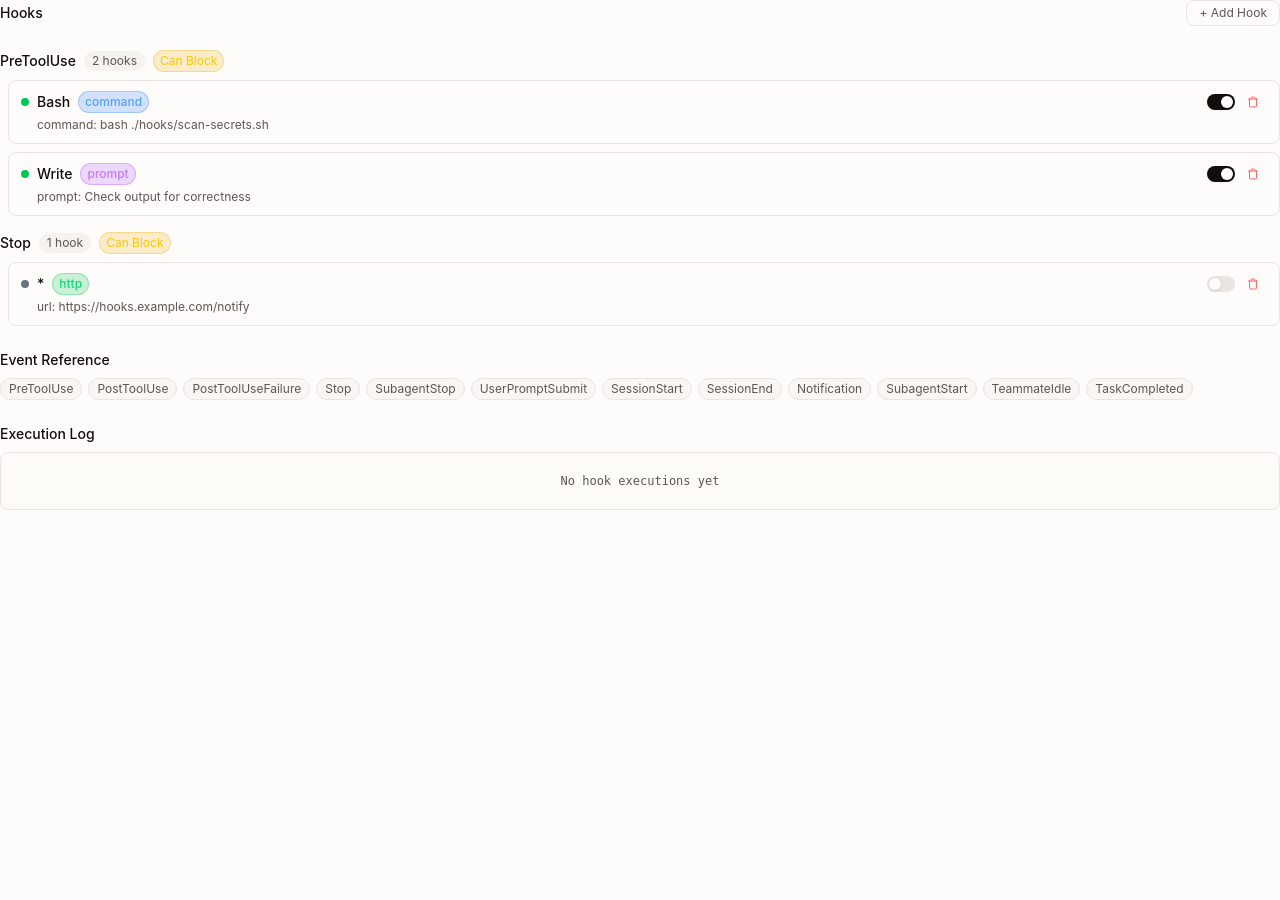
it: HooksPanel › add form shows url fields for http type
Expected: the element with test id "hooks-panel" is shown, [0,0,1279,510]
Click the button with test id "hooks-add-btn" at (1233, 13), box [1186,0,1279,26]
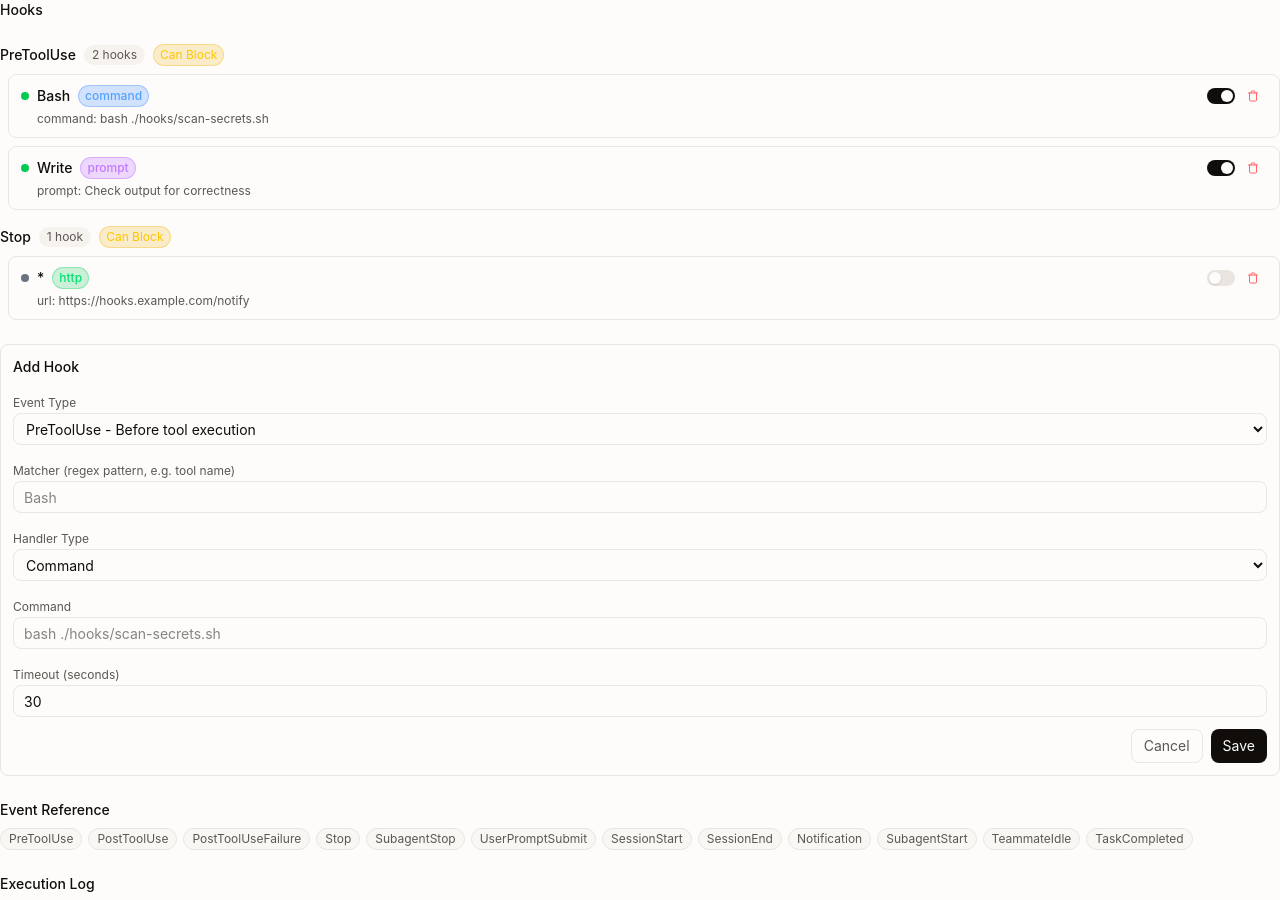
Select "HTTP" in the dropdown with test id "hooks-add-handler-type-select" at (640, 565), box [13,549,1267,581]
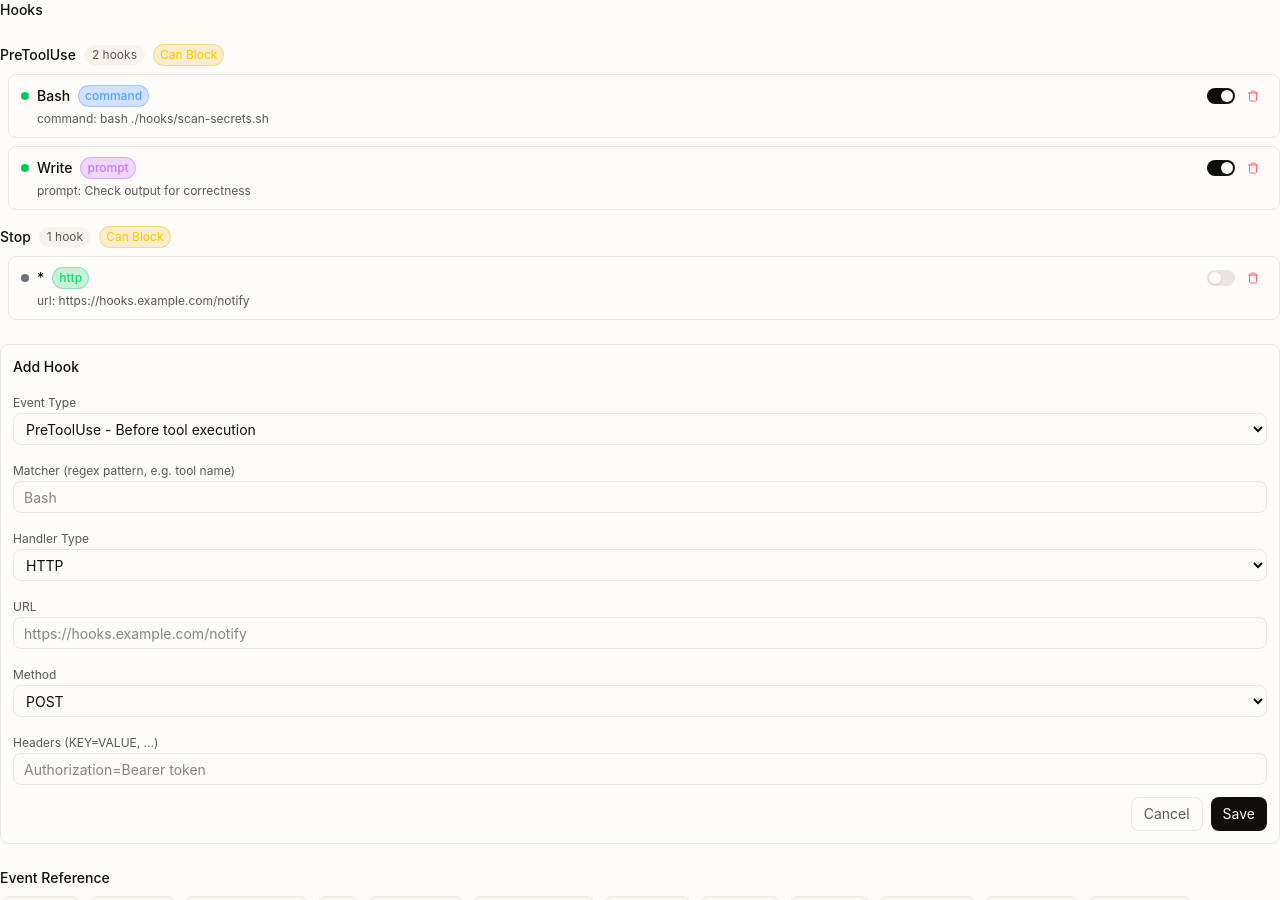
Expected: the field with test id "hooks-add-url-input" is shown, [13,617,1267,649]
Expected: the dropdown with test id "hooks-add-method-select" is shown, [13,685,1267,717]
Expected: the field with test id "hooks-add-headers-input" is shown, [13,753,1267,785]
